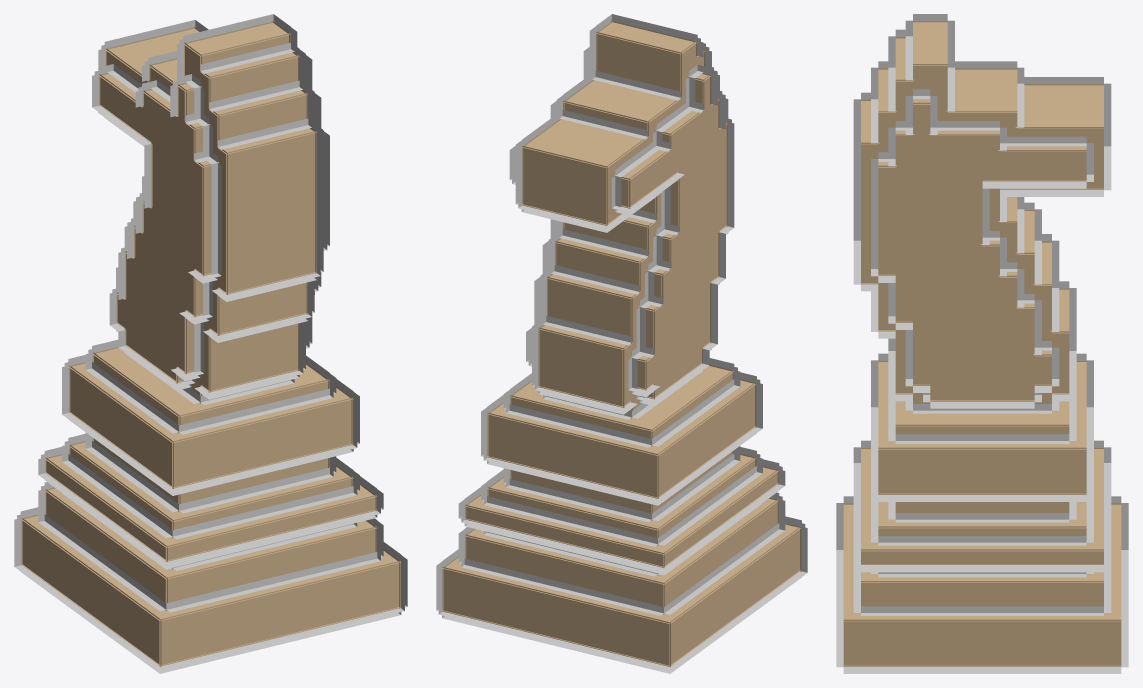
File: tan-knight.glb
The picture shows the model from 3 angles, left to right: view 1: azimuth 30°, elevation 25°; view 2: azimuth 150°, elevation 25°; view 3: azimuth 270°, elevation 25°; orthographic projection. The views are drawn at different scales.
Parts seen in each view (by area): view 1: chess-knight-tan_model; view 2: chess-knight-tan_model; view 3: chess-knight-tan_model.
Part boxes in pixels (x1=…): chess-knight-tan_model: x1=14, y1=14, x2=407, y2=673; chess-knight-tan_model: x1=436, y1=14, x2=807, y2=673; chess-knight-tan_model: x1=836, y1=14, x2=1128, y2=673.
Bounding box in the file's own units: 1.68 × 3.68 × 1.68.
Materials: 2 (1 with a texture image).
